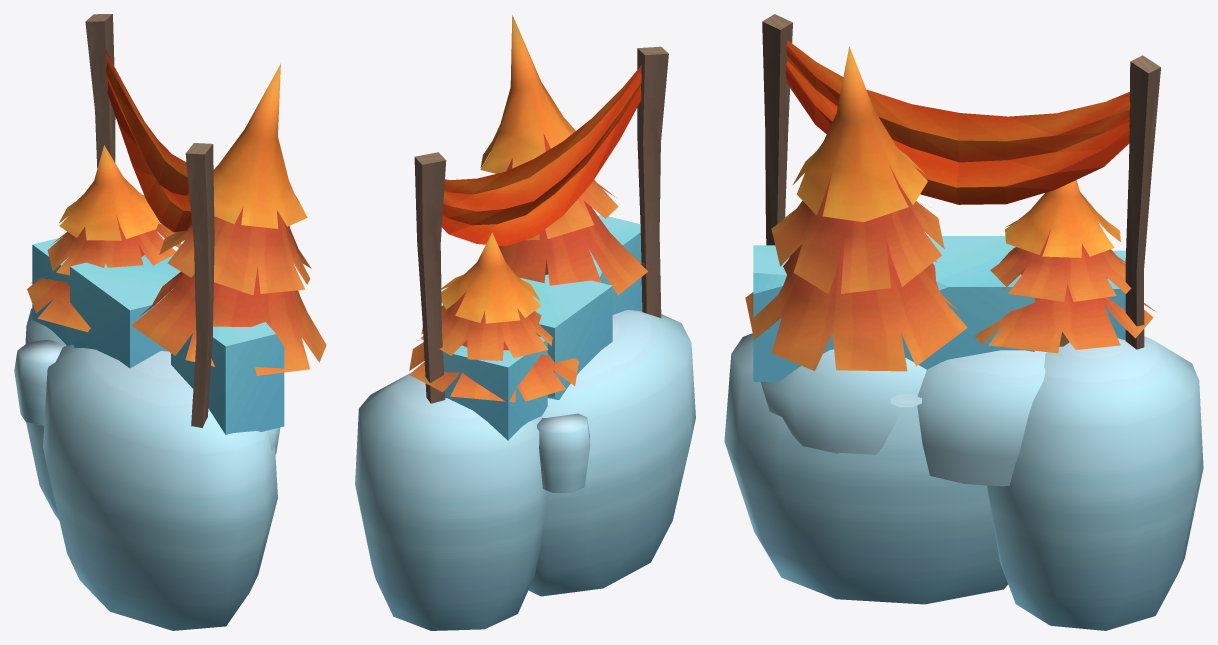
Rendered from Wall1B-003_40_21_8199.fbx.
The picture shows the model from 3 angles, left to right: view 1: azimuth 30°, elevation 25°; view 2: azimuth 150°, elevation 25°; view 3: azimuth 270°, elevation 25°; orthographic projection. The views are drawn at different scales.
Visible parts, largest first — view 1: Snowpile (7), Tree2 (1), Wall, Tree1 (1), Wood1.002 (3), Cloth1 (1), Wood1.002 (2), Snowpile (5), Snowpile (6); view 2: Snowpile (6), Snowpile (7), Tree2 (1), Cloth1 (1), Wall, Tree1 (1), Wood1.002 (3), Wood1.002 (2), Snowpile (5); view 3: Snowpile (6), Snowpile (7), Tree2 (1), Wall, Cloth1 (1), Tree1 (1), Wood1.002 (2), Wood1.002 (3).
Part boxes in pixels (x1,y1,x2,y2): Snowpile (7): (43,345,277,630); Tree2 (1): (131,63,326,375); Wall: (32,237,284,454); Tree1 (1): (27,145,181,332); Wood1.002 (3): (185,143,214,427); Cloth1 (1): (105,48,192,232); Wood1.002 (2): (85,14,115,168); Snowpile (5): (14,339,64,425); Snowpile (6): (25,308,66,519); Snowpile (6): (355,372,547,630); Snowpile (7): (528,310,695,596); Tree2 (1): (480,15,647,295); Cloth1 (1): (442,65,641,246); Wall: (443,214,642,440); Tree1 (1): (409,232,578,402); Wood1.002 (3): (637,46,668,318); Wood1.002 (2): (414,152,446,403); Snowpile (5): (537,413,590,492); Snowpile (6): (986,336,1203,630); Snowpile (7): (724,333,1008,604); Tree2 (1): (745,46,967,371); Wall: (753,236,1125,486); Cloth1 (1): (786,40,1130,204); Tree1 (1): (974,180,1155,353); Wood1.002 (2): (1125,55,1160,349); Wood1.002 (3): (762,14,792,245).
Size of the model in its own units: 2.28 by 4.98 by 3.74.
